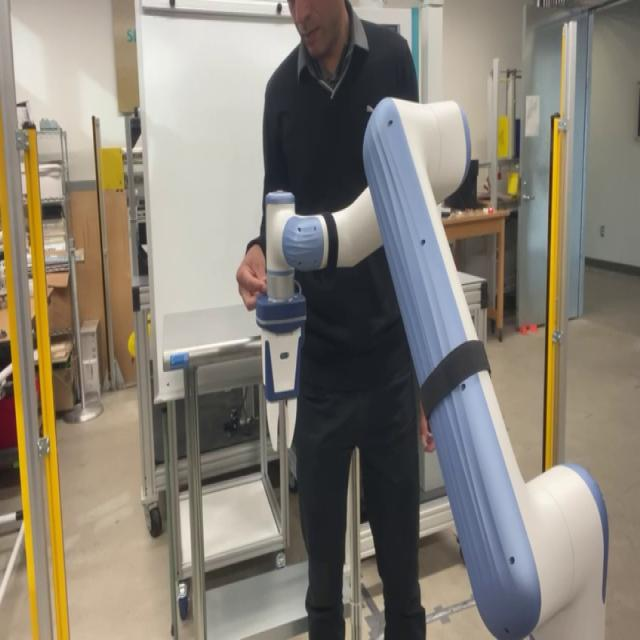human: (235, 0, 434, 639)
robot: (254, 93, 609, 638)
